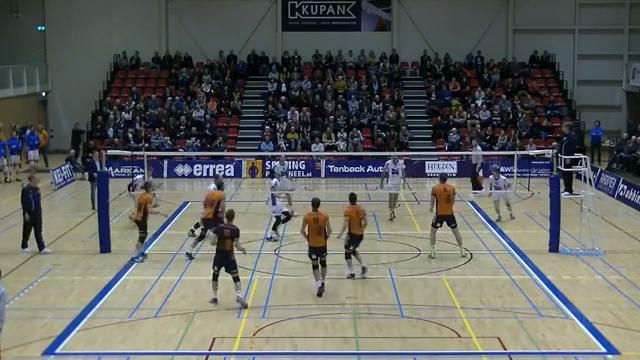Player: (210, 209, 247, 308), (300, 197, 331, 296), (429, 173, 465, 258), (185, 181, 224, 259), (132, 181, 166, 261), (338, 192, 367, 278), (380, 156, 405, 220), (266, 178, 291, 241), (488, 164, 514, 220), (272, 156, 295, 215), (207, 176, 220, 191)
